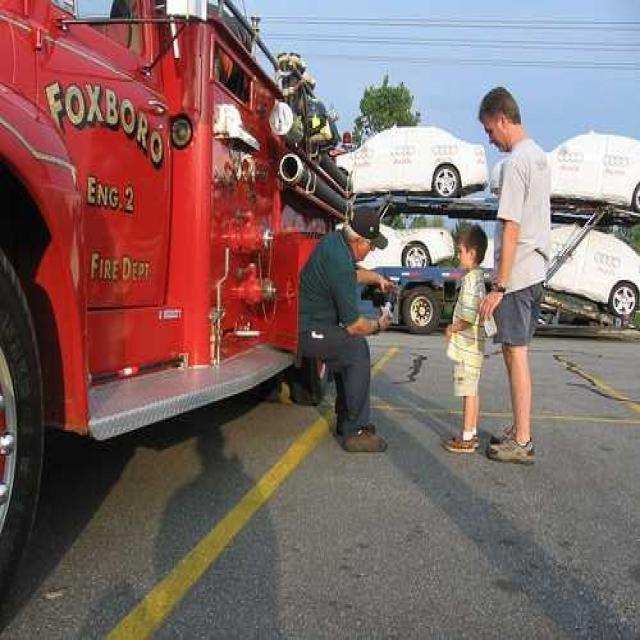ambulance: (8, 15, 346, 439)
